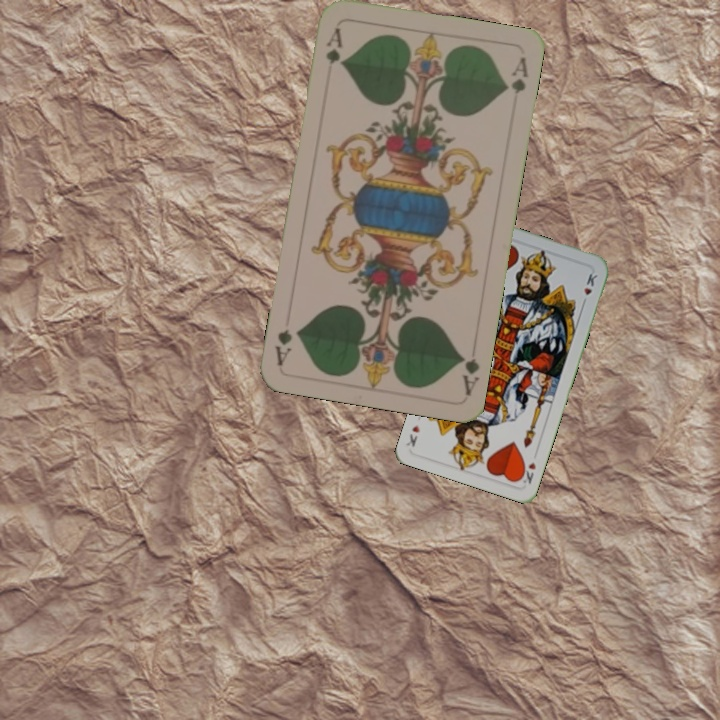GA: (456, 351, 482, 398), (322, 23, 346, 68)
HK: (516, 458, 538, 487)
